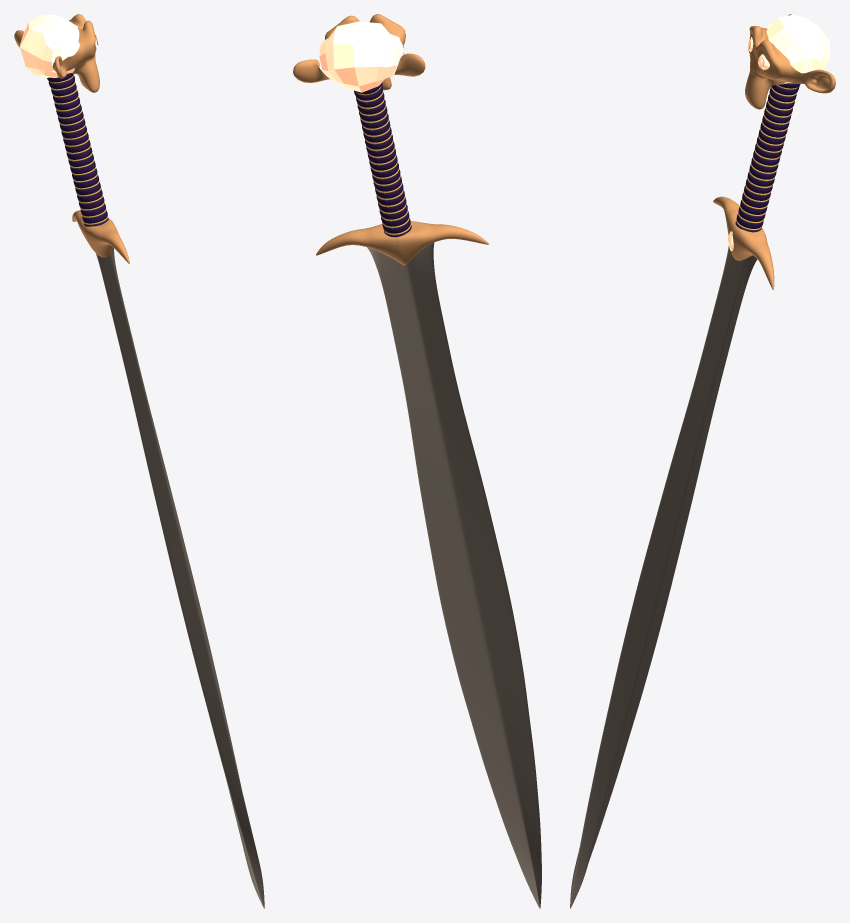
Rendered from sword.glb.
3 views of the same model, side by side, from view 1: azimuth 90°, elevation 25°; view 2: azimuth 150°, elevation 25°; view 3: azimuth 270°, elevation 25° (orthographic). The views are drawn at different scales.
Visible parts, largest first — view 1: sword_blade_Plane.001, sword_handle_Cylinder, Suzanne.003, Suzanne.001, cross_guard, sword_grip_wire_Cylinder.001; view 2: sword_blade_Plane.001, Suzanne.003, sword_handle_Cylinder, cross_guard, Suzanne.001, sword_grip_wire_Cylinder.001; view 3: sword_blade_Plane.001, sword_handle_Cylinder, Suzanne.001, Suzanne.003, cross_guard, sword_grip_wire_Cylinder.001.
Boxes of the visible parts, x1,y1,x2,y2 form: sword_blade_Plane.001: (96,246,264,908); sword_handle_Cylinder: (47,73,108,226); Suzanne.003: (20,14,97,77); Suzanne.001: (14,14,99,92); cross_guard: (72,210,129,263); sword_grip_wire_Cylinder.001: (49,68,107,224); sword_blade_Plane.001: (367,242,541,908); Suzanne.003: (319,21,403,92); sword_handle_Cylinder: (354,82,411,237); cross_guard: (316,221,489,265); Suzanne.001: (293,14,425,90); sword_grip_wire_Cylinder.001: (356,86,410,235); sword_blade_Plane.001: (570,245,757,908); sword_handle_Cylinder: (735,83,800,232); Suzanne.001: (745,14,835,109); Suzanne.003: (747,15,829,83); cross_guard: (713,196,774,289); sword_grip_wire_Cylinder.001: (736,84,797,230).
Bounding box in the file's own units: 0.571 × 3.66 × 0.9633.
